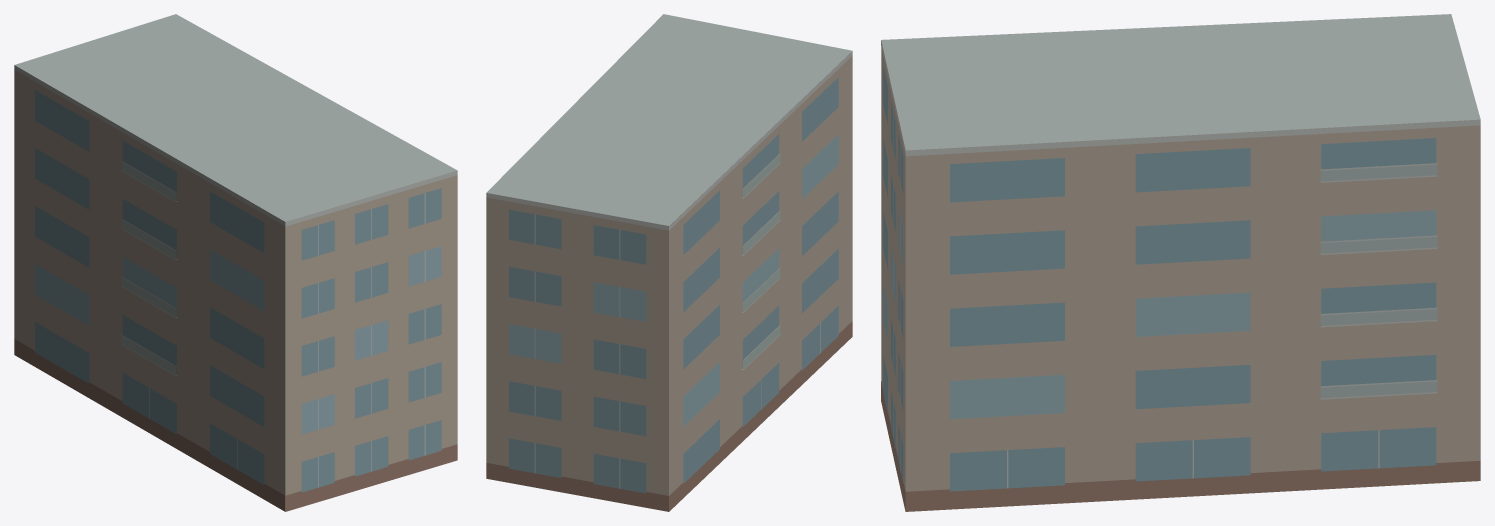
File: residential-7ee1a935-cd38-4ccc-8f3f-3243cee282ea.glb
3 views of the same model, side by side, from view 1: azimuth 30°, elevation 25°; view 2: azimuth 150°, elevation 25°; view 3: azimuth 270°, elevation 25° (orthographic). The views are drawn at different scales.
Visible parts, largest first — view 1: residential-7ee1a935-cd38-4ccc-8f3f-3243cee282ea.tmp; view 2: residential-7ee1a935-cd38-4ccc-8f3f-3243cee282ea.tmp; view 3: residential-7ee1a935-cd38-4ccc-8f3f-3243cee282ea.tmp.
Part boxes in pixels (bbox=[...]): residential-7ee1a935-cd38-4ccc-8f3f-3243cee282ea.tmp: bbox=[14, 14, 457, 511]; residential-7ee1a935-cd38-4ccc-8f3f-3243cee282ea.tmp: bbox=[486, 14, 852, 511]; residential-7ee1a935-cd38-4ccc-8f3f-3243cee282ea.tmp: bbox=[881, 14, 1480, 511].
Size of the model in its own units: 12.37 by 15.25 by 22.94.
